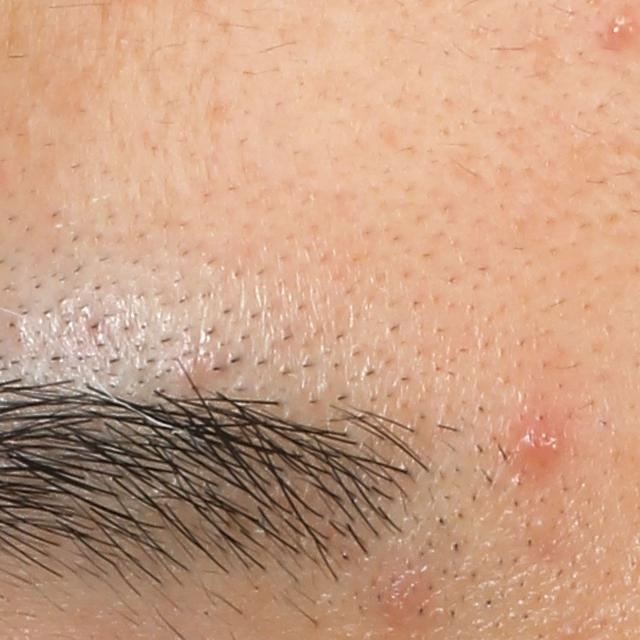papule: (508, 411, 568, 470), (371, 568, 430, 625)
